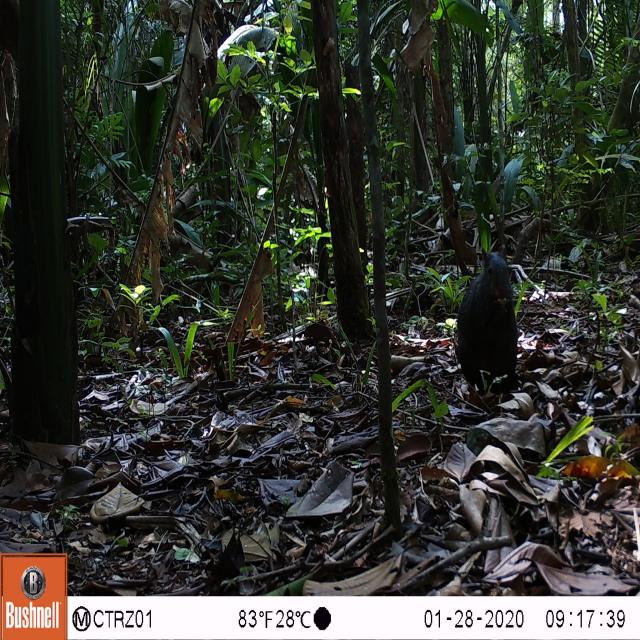Black Agouti: (447, 239, 530, 404)
